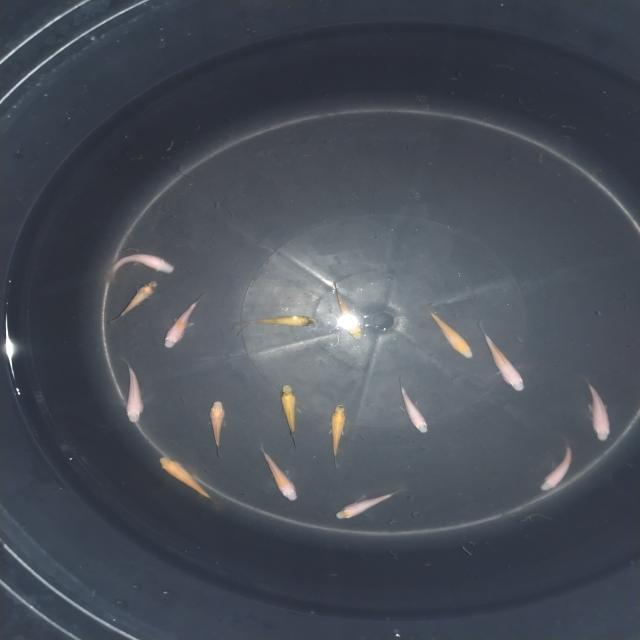nila: (474, 318, 528, 394), (420, 302, 474, 360), (250, 443, 302, 503), (158, 454, 218, 504), (160, 292, 208, 350), (106, 280, 164, 328), (97, 250, 177, 283), (582, 376, 618, 444), (332, 486, 408, 518), (232, 310, 318, 335), (326, 282, 364, 337), (393, 380, 430, 434), (539, 438, 573, 496), (325, 398, 353, 468), (116, 358, 144, 428), (278, 380, 302, 450), (208, 400, 227, 456)
